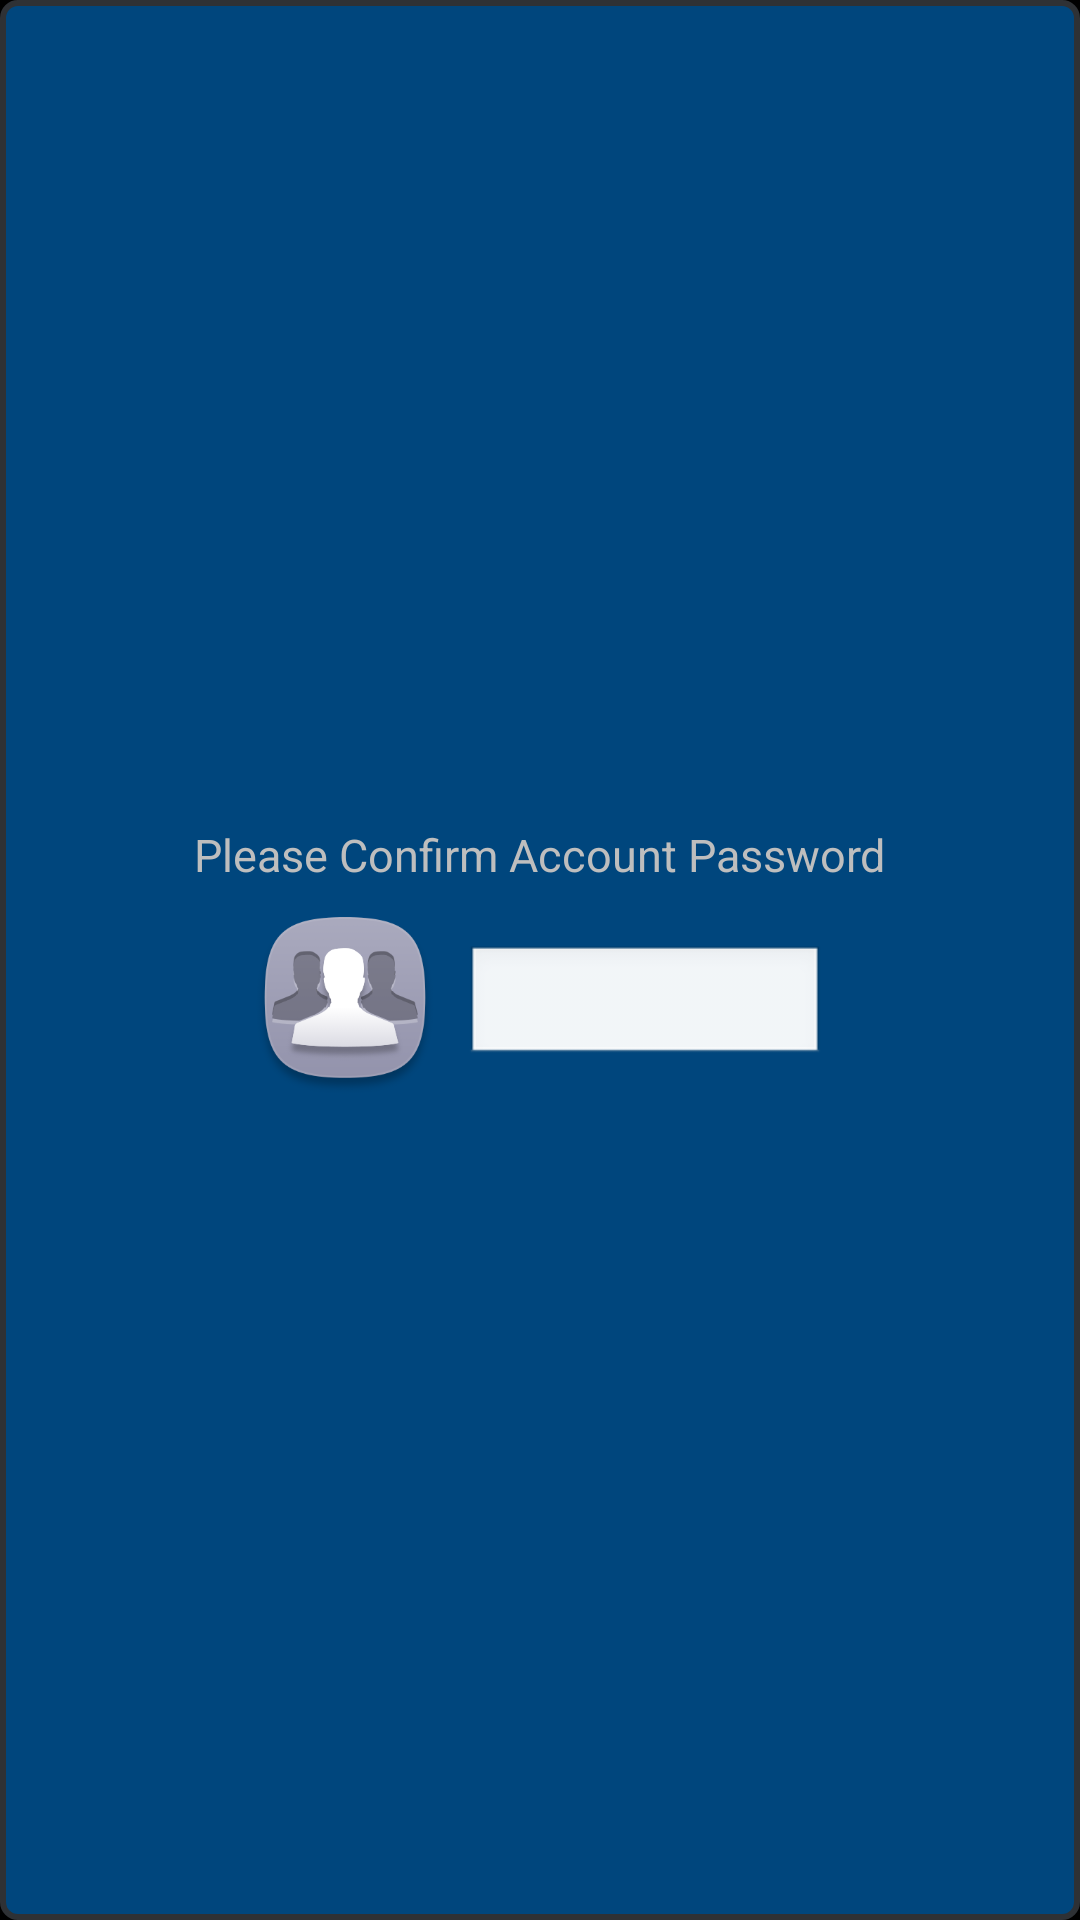

Point at icon controls on the screen. Image size 1080px x 1920px, points as (x,y).
system users: (345,999)
